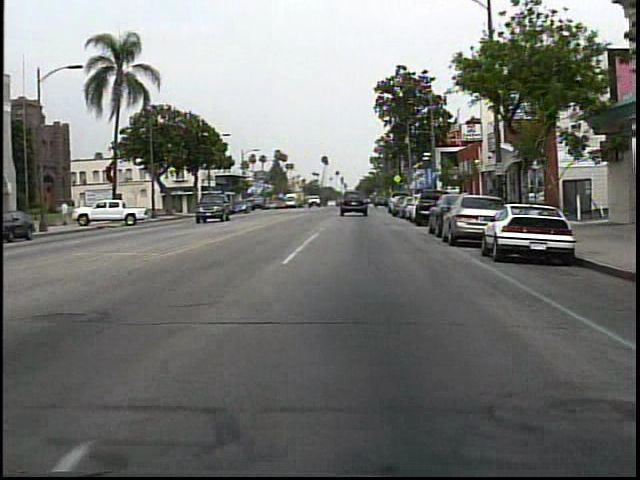person: (59, 198, 74, 229), (367, 192, 381, 221)
